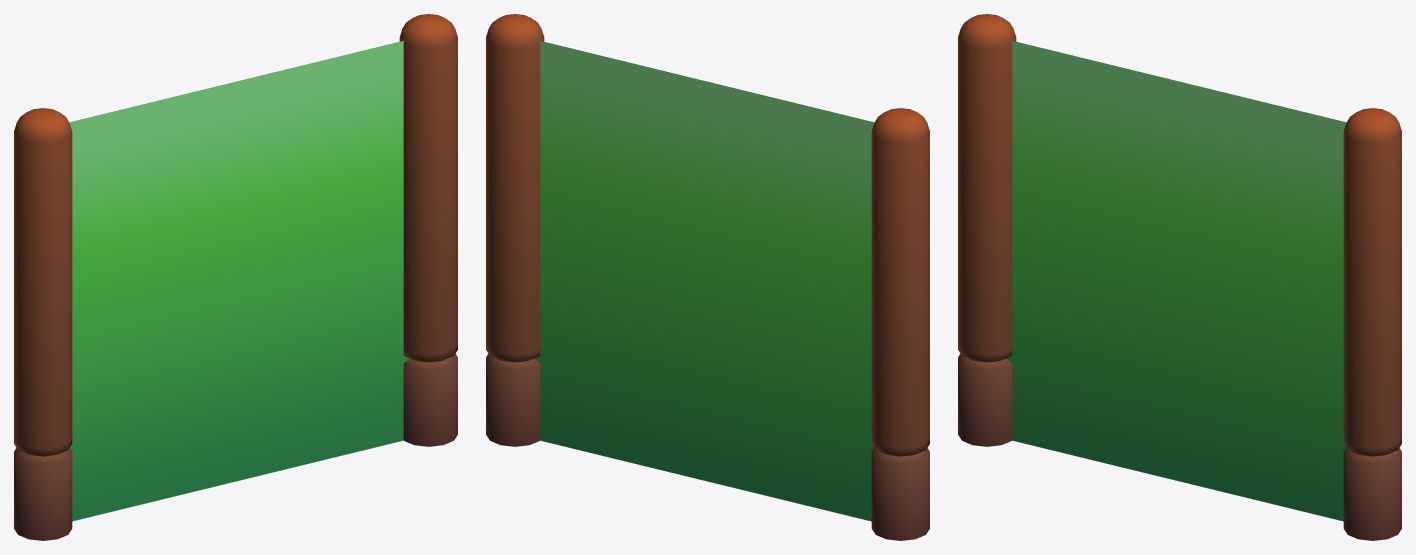
Rendered from booster.fbx.
The picture shows the model from 3 angles, left to right: view 1: azimuth 30°, elevation 25°; view 2: azimuth 150°, elevation 25°; view 3: azimuth 330°, elevation 25°; orthographic projection.
Parts seen in each view (by area): view 1: Plane.004, Circle.008; view 2: Plane.004, Circle.008; view 3: Plane.004, Circle.008.
Boxes of the visible parts, x1,y1,x2,y2 form: Plane.004: (69, 41, 409, 521); Circle.008: (14, 14, 457, 540); Plane.004: (534, 41, 874, 521); Circle.008: (486, 14, 929, 540); Plane.004: (1006, 41, 1346, 521); Circle.008: (958, 14, 1401, 540).
Size of the model in its own units: 239 by 218 by 27.65.
